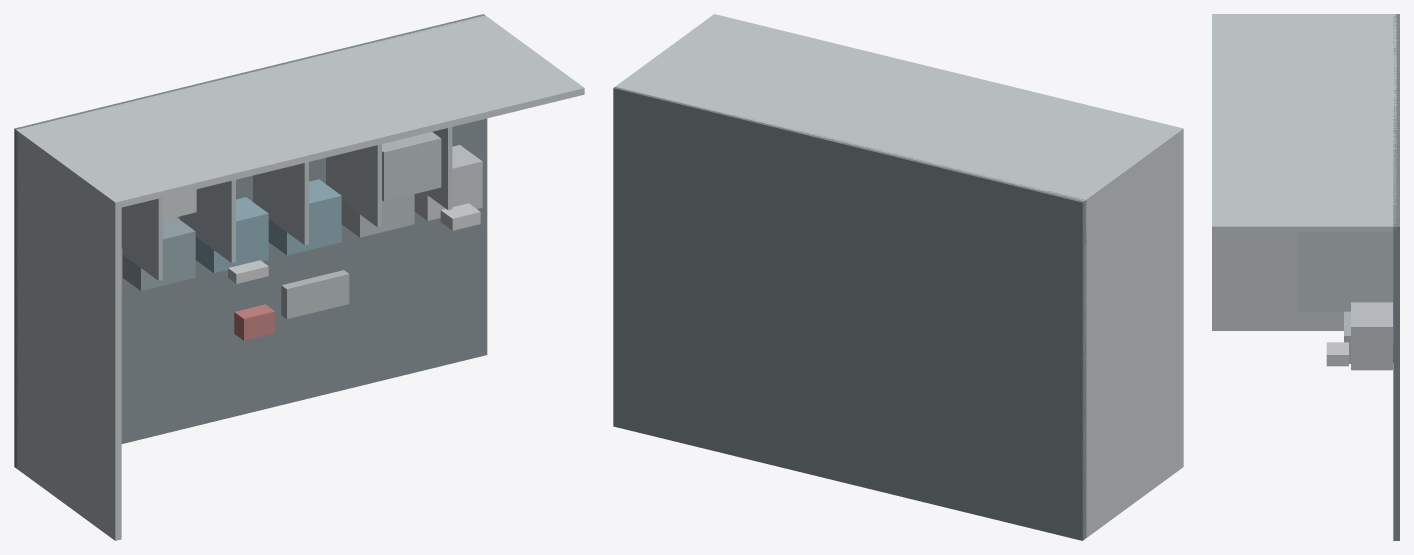
File: cme-room-high.glb
3 views of the same model, side by side, from view 1: azimuth 30°, elevation 25°; view 2: azimuth 150°, elevation 25°; view 3: azimuth 270°, elevation 25° (orthographic). The views are drawn at different scales.
Visible parts, largest first — view 1: floor, wall_back, wall_left, autoclave, flow_marker_3, flow_marker_4, flow_marker_2, cleaning, flow_marker_1, packing, inspection, instrument_tray_proxy (+7 smaller); view 2: floor, wall_back, wall_left; view 3: wall_back, wall_left, flow_marker_5, floor, sterile_storage, sterile_pack_proxy, instrument_tray_proxy.
Part boxes in pixels (left/top/right/bottom): floor: left=14, top=14, right=487, bottom=468; wall_back: left=16, top=15, right=584, bottom=208; wall_left: left=16, top=130, right=121, bottom=540; autoclave: left=382, top=132, right=441, bottom=201; flow_marker_3: left=253, top=162, right=308, bottom=245; flow_marker_4: left=326, top=144, right=381, bottom=227; flow_marker_2: left=180, top=180, right=235, bottom=262; cleaning: left=122, top=217, right=195, bottom=290; flow_marker_1: left=121, top=197, right=162, bottom=280; packing: left=268, top=179, right=341, bottom=255; inspection: left=195, top=197, right=268, bottom=273; instrument_tray_proxy: left=281, top=270, right=349, bottom=318; floor: left=613, top=87, right=1086, bottom=540; wall_back: left=615, top=14, right=1183, bottom=206; wall_left: left=1084, top=129, right=1183, bottom=537; wall_back: left=1212, top=14, right=1396, bottom=232; wall_left: left=1212, top=14, right=1393, bottom=330; flow_marker_5: left=1297, top=232, right=1393, bottom=311; floor: left=1393, top=14, right=1399, bottom=540; sterile_storage: left=1351, top=302, right=1392, bottom=370; sterile_pack_proxy: left=1326, top=342, right=1348, bottom=366; instrument_tray_proxy: left=1344, top=311, right=1350, bottom=363.
Bounding box in the file's own units: 9 × 6.2 × 3.36.
